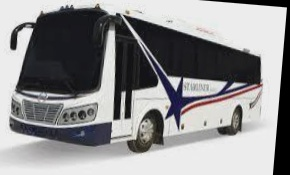bus: (2, 0, 269, 165)
